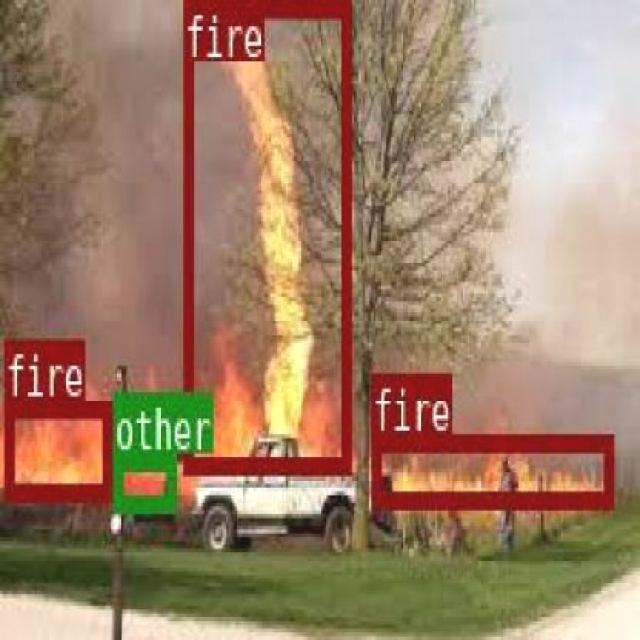fire: (182, 0, 348, 469), (369, 433, 611, 507), (3, 396, 108, 496)
